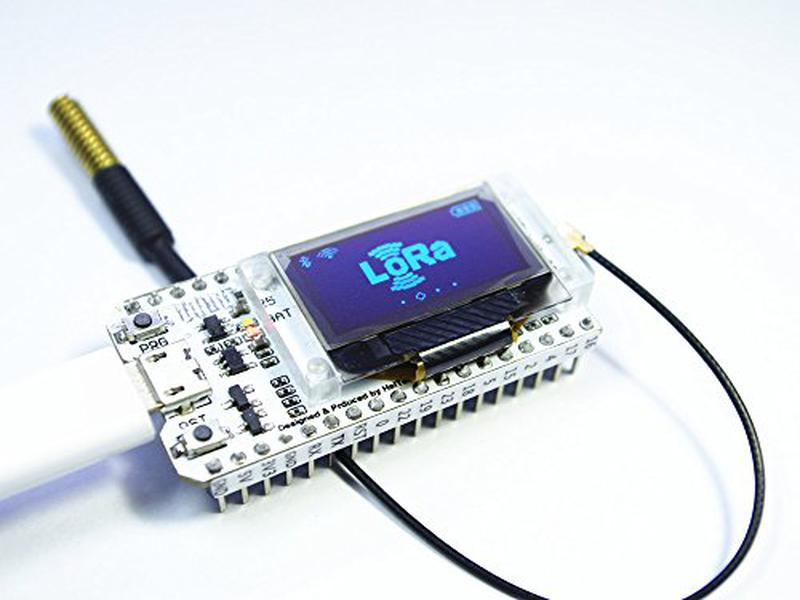Heltec_ESP32_Lora: (100, 171, 606, 520)
